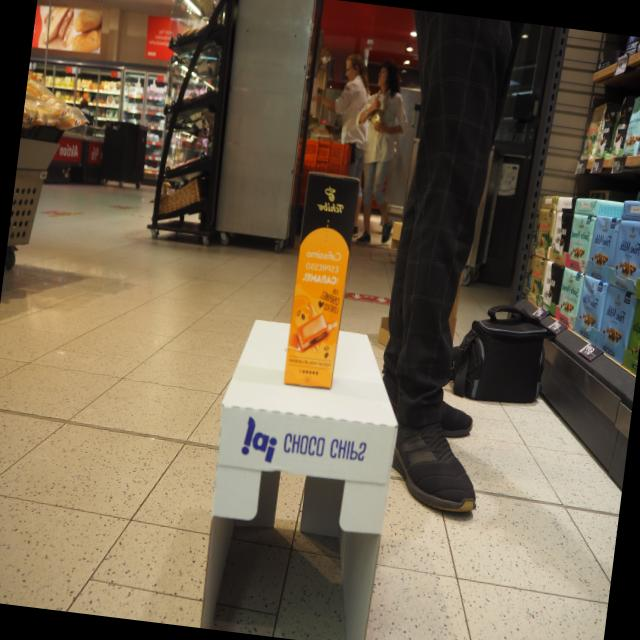Simo Es Caramel: (281, 169, 361, 391)
